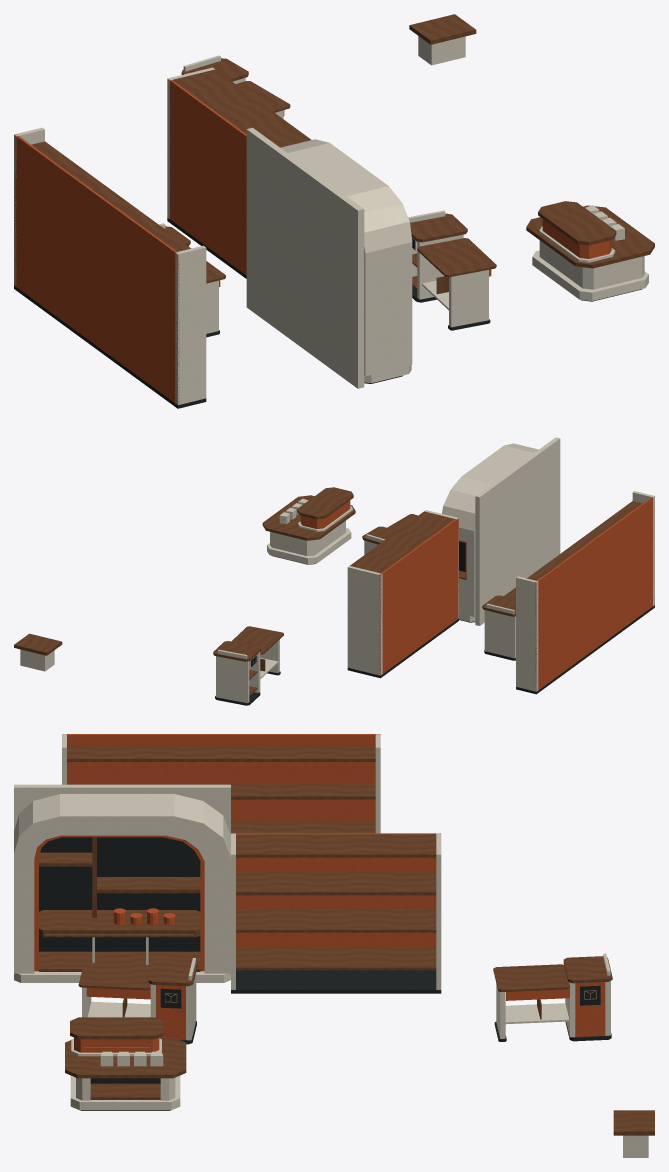
The model's file is SHOP_D09_S72_A340__fitout.glb.
The picture shows the model from 3 angles, top to bottom: view 1: azimuth 30°, elevation 25°; view 2: azimuth 150°, elevation 25°; view 3: azimuth 270°, elevation 25°; orthographic projection. The views are drawn at different scales.
Parts seen in each view (by area): view 1: SHOP_D09_S72_A340__fitout__ivory_enamel, SHOP_D09_S72_A340__fitout__retail_terracotta_enamel, SHOP_D09_S72_A340__fitout__warm_walnut, SHOP_D09_S72_A340__fitout__dark_rubber; view 2: SHOP_D09_S72_A340__fitout__ivory_enamel, SHOP_D09_S72_A340__fitout__retail_terracotta_enamel, SHOP_D09_S72_A340__fitout__warm_walnut, SHOP_D09_S72_A340__fitout__dark_rubber; view 3: SHOP_D09_S72_A340__fitout__warm_walnut, SHOP_D09_S72_A340__fitout__retail_terracotta_enamel, SHOP_D09_S72_A340__fitout__ivory_enamel, SHOP_D09_S72_A340__fitout__dark_rubber.
Boxes of the visible parts, box(x1,y1,x2,y2) form: SHOP_D09_S72_A340__fitout__ivory_enamel: box(14, 36, 648, 404); SHOP_D09_S72_A340__fitout__retail_terracotta_enamel: box(14, 79, 611, 404); SHOP_D09_S72_A340__fitout__warm_walnut: box(31, 14, 654, 294); SHOP_D09_S72_A340__fitout__dark_rubber: box(14, 218, 642, 408); SHOP_D09_S72_A340__fitout__ivory_enamel: box(20, 437, 654, 703); SHOP_D09_S72_A340__fitout__retail_terracotta_enamel: box(253, 497, 654, 689); SHOP_D09_S72_A340__fitout__warm_walnut: box(14, 487, 642, 696); SHOP_D09_S72_A340__fitout__dark_rubber: box(215, 541, 654, 705); SHOP_D09_S72_A340__fitout__warm_walnut: box(39, 746, 654, 1135); SHOP_D09_S72_A340__fitout__retail_terracotta_enamel: box(34, 734, 605, 1052); SHOP_D09_S72_A340__fitout__ivory_enamel: box(14, 734, 648, 1157); SHOP_D09_S72_A340__fitout__dark_rubber: box(39, 837, 611, 1110).
Bounding box in the file's own units: 10.25 × 3 × 10.05.
5 materials, 5 textured.
